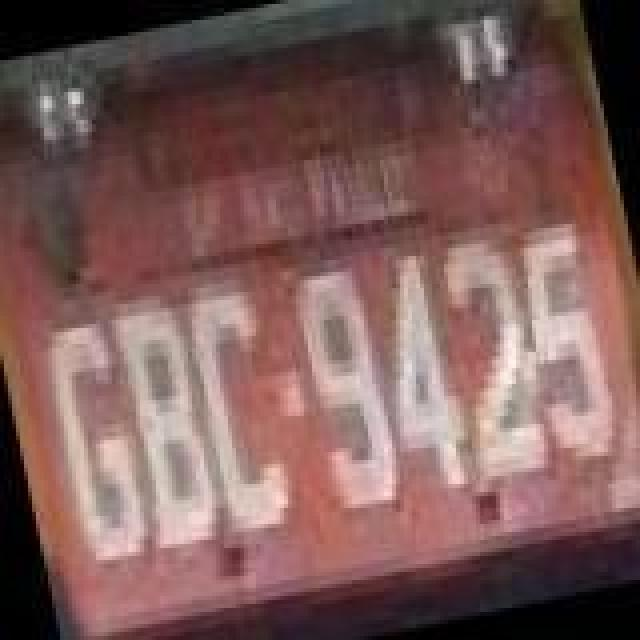2: (438, 232, 554, 488)
4: (358, 252, 474, 500)
5: (510, 218, 626, 470)
9: (284, 262, 404, 514)
B: (110, 304, 226, 560)
C: (178, 282, 302, 542)
G: (36, 314, 156, 574)
